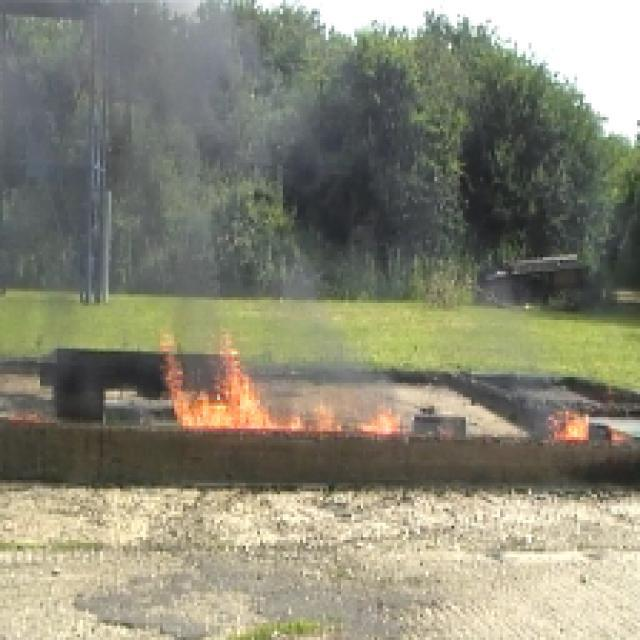Fire: (162, 376, 266, 437)
